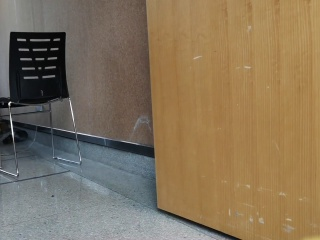room: (8, 2, 306, 240)
